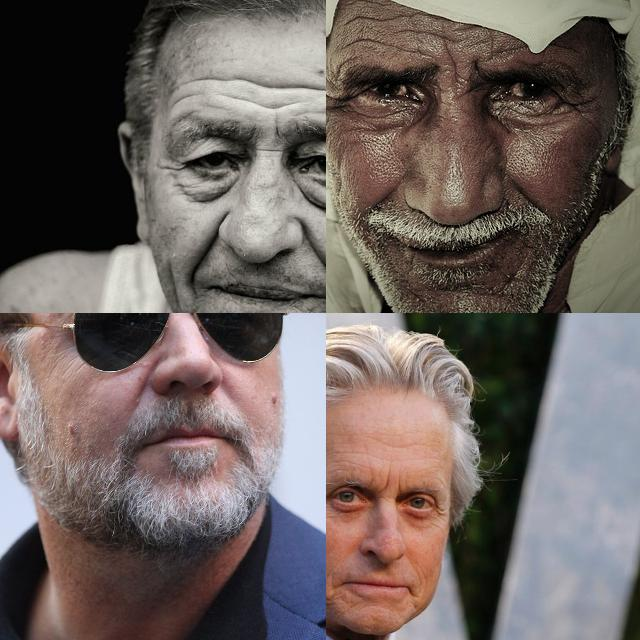chin: (326, 590, 343, 608)
crows_feet: (556, 90, 584, 116), (326, 86, 349, 114), (161, 156, 187, 178), (434, 501, 448, 524), (326, 487, 331, 510)
forehead: (210, 71, 326, 106), (344, 8, 394, 30), (403, 22, 449, 44), (168, 80, 195, 114), (340, 31, 380, 50), (487, 42, 523, 59), (336, 456, 364, 472), (381, 437, 407, 453), (341, 446, 373, 458)
frown_line: (442, 52, 466, 86), (254, 143, 284, 159), (378, 469, 392, 495), (395, 472, 405, 494)
gummy_smile: (295, 218, 326, 271), (196, 213, 224, 267), (136, 359, 158, 411), (514, 180, 546, 214), (364, 184, 400, 208)
masseter: (162, 262, 178, 306)
sad_smile: (181, 273, 203, 299), (406, 584, 419, 602)
